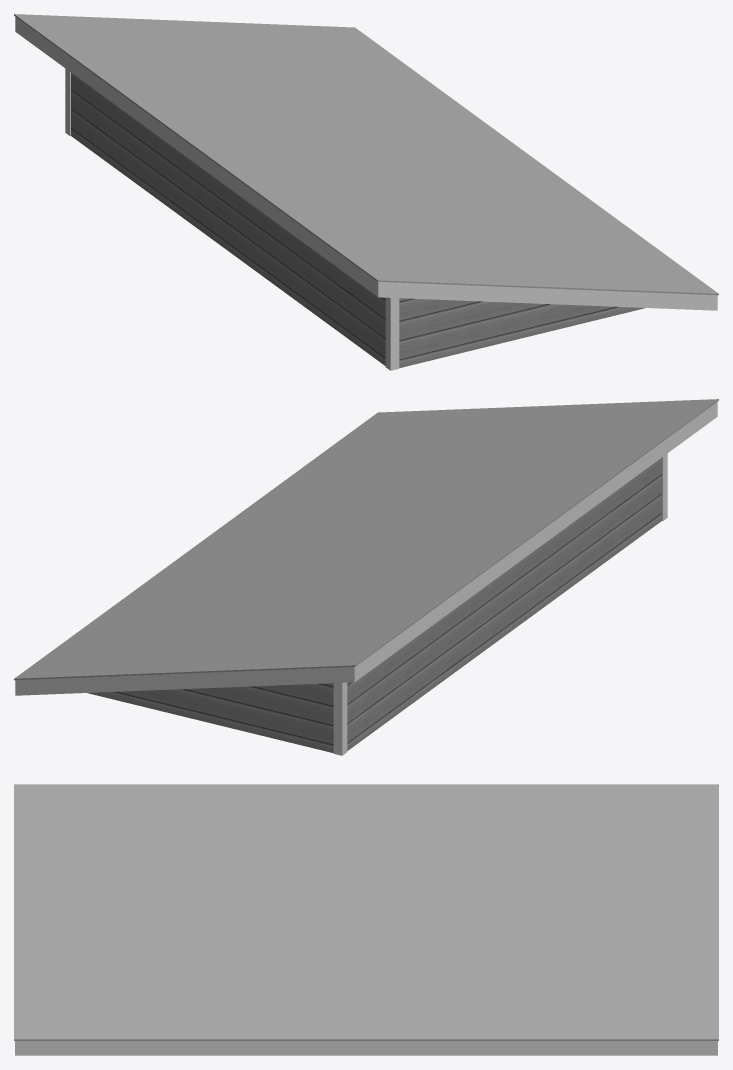
The model's file is slant.glb.
The picture shows the model from 3 angles, top to bottom: view 1: azimuth 30°, elevation 25°; view 2: azimuth 150°, elevation 25°; view 3: azimuth 270°, elevation 25°; orthographic projection. The views are drawn at different scales.
Parts seen in each view (by area): view 1: Roof_top, Roof_exterior.001, Roof_siding, Trims; view 2: Roof_top, Roof_exterior.001, Roof_siding, Trims; view 3: Roof_top, Roof_siding.
Part boxes in pixels (box(x1,y1,x2,y2)): Roof_top: box(14, 14, 718, 295); Roof_exterior.001: box(71, 73, 645, 367); Roof_siding: box(15, 17, 717, 310); Trims: box(65, 68, 399, 370); Roof_top: box(14, 399, 718, 680); Roof_exterior.001: box(87, 458, 661, 752); Roof_siding: box(15, 402, 717, 695); Trims: box(333, 453, 667, 755); Roof_top: box(14, 784, 718, 1040); Roof_siding: box(15, 1041, 717, 1055).
Size of the model in its own units: 4.57 by 1.46 by 8.43.
Materials: 7 (2 with a texture image).
